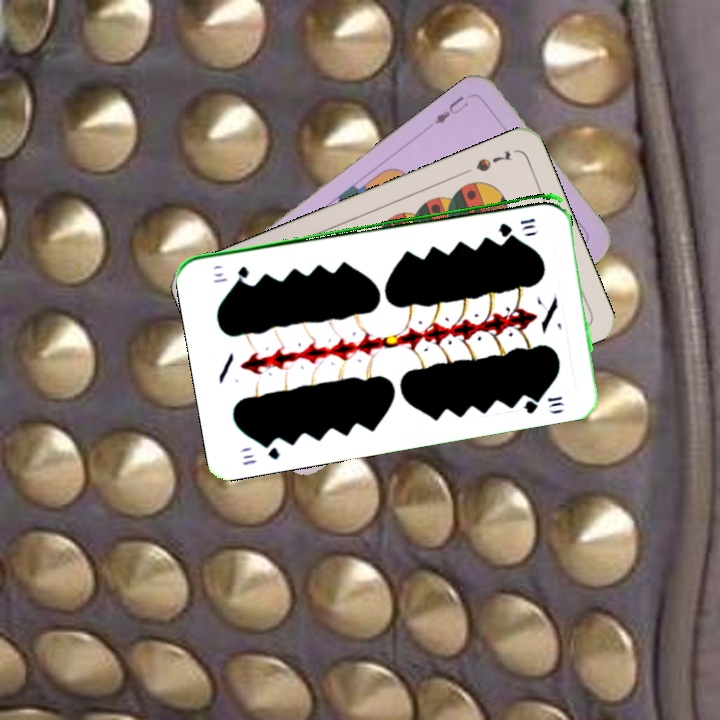EU: (429, 91, 471, 127)
G10: (238, 436, 282, 468), (494, 214, 538, 236)
S7: (472, 147, 514, 175)
